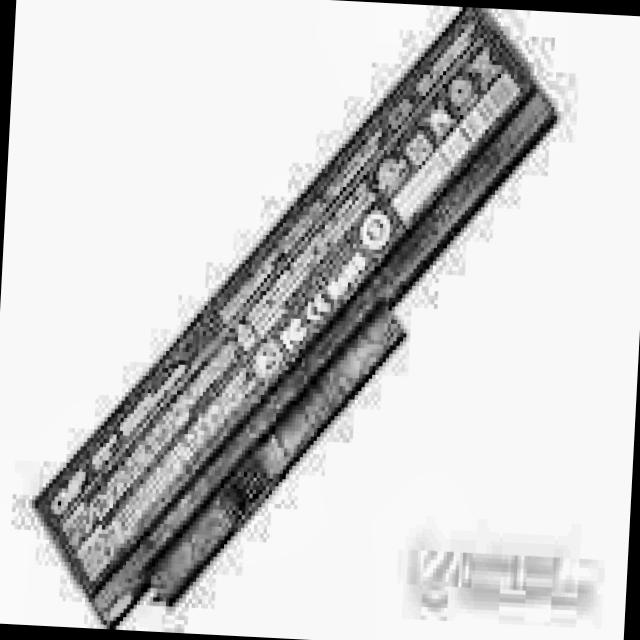Battery: (25, 0, 559, 640)
